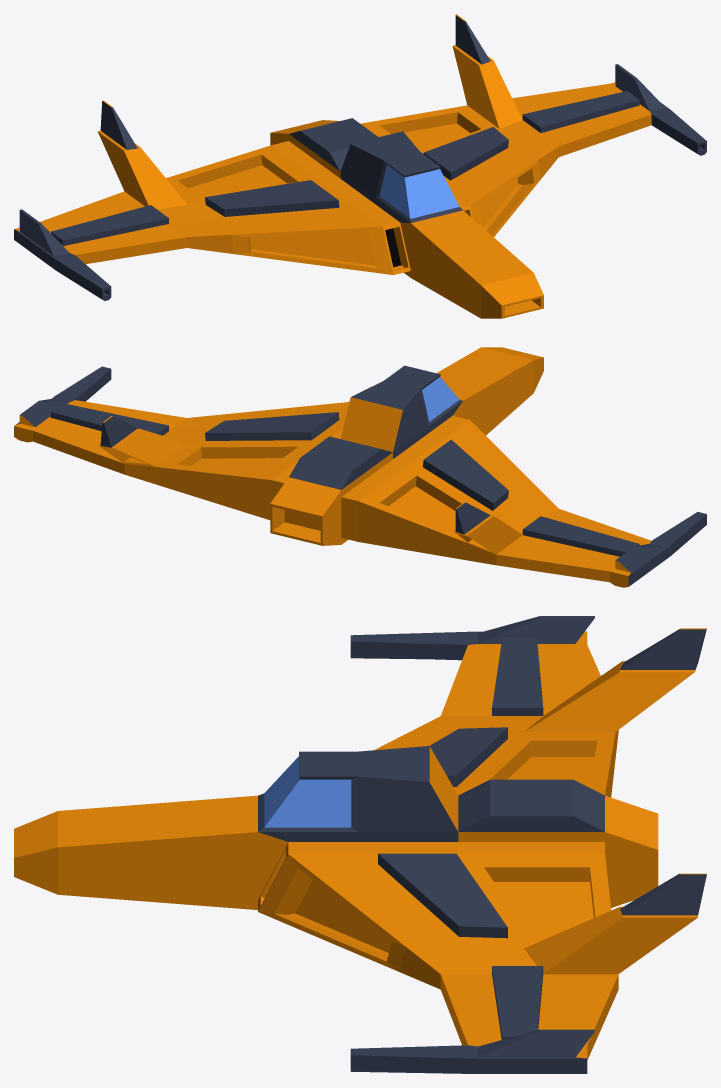
The model's file is SolarRevenant.fbx.
3 renders of one model, top to bottom at view 1: azimuth 30°, elevation 25°; view 2: azimuth 150°, elevation 25°; view 3: azimuth 270°, elevation 25°, orthographic. The views are drawn at different scales.
Parts seen in each view (by area): view 1: SolarRevenant; view 2: SolarRevenant; view 3: SolarRevenant.
Part boxes in pixels (<box>): SolarRevenant: <box>14,14,706,318</box>; SolarRevenant: <box>14,347,706,587</box>; SolarRevenant: <box>14,616,706,1073</box>.
Bounding box in the file's own units: 26.75 × 4.11 × 18.36.
